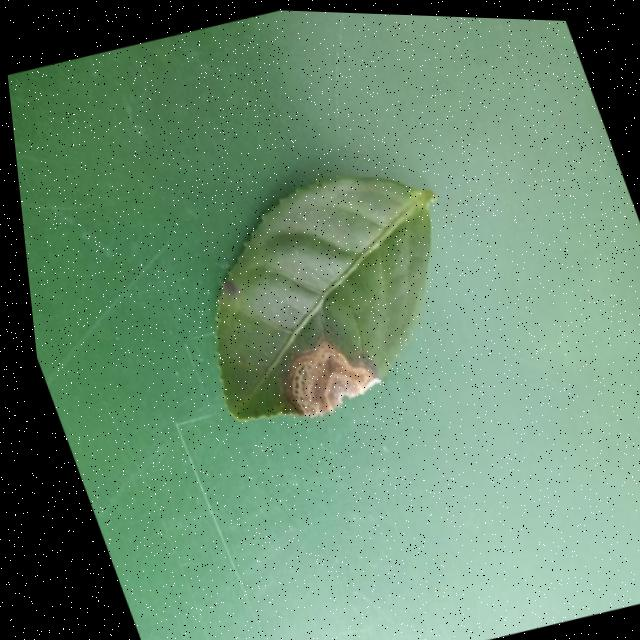Tea cloud leaf blight: (259, 329, 386, 437)
